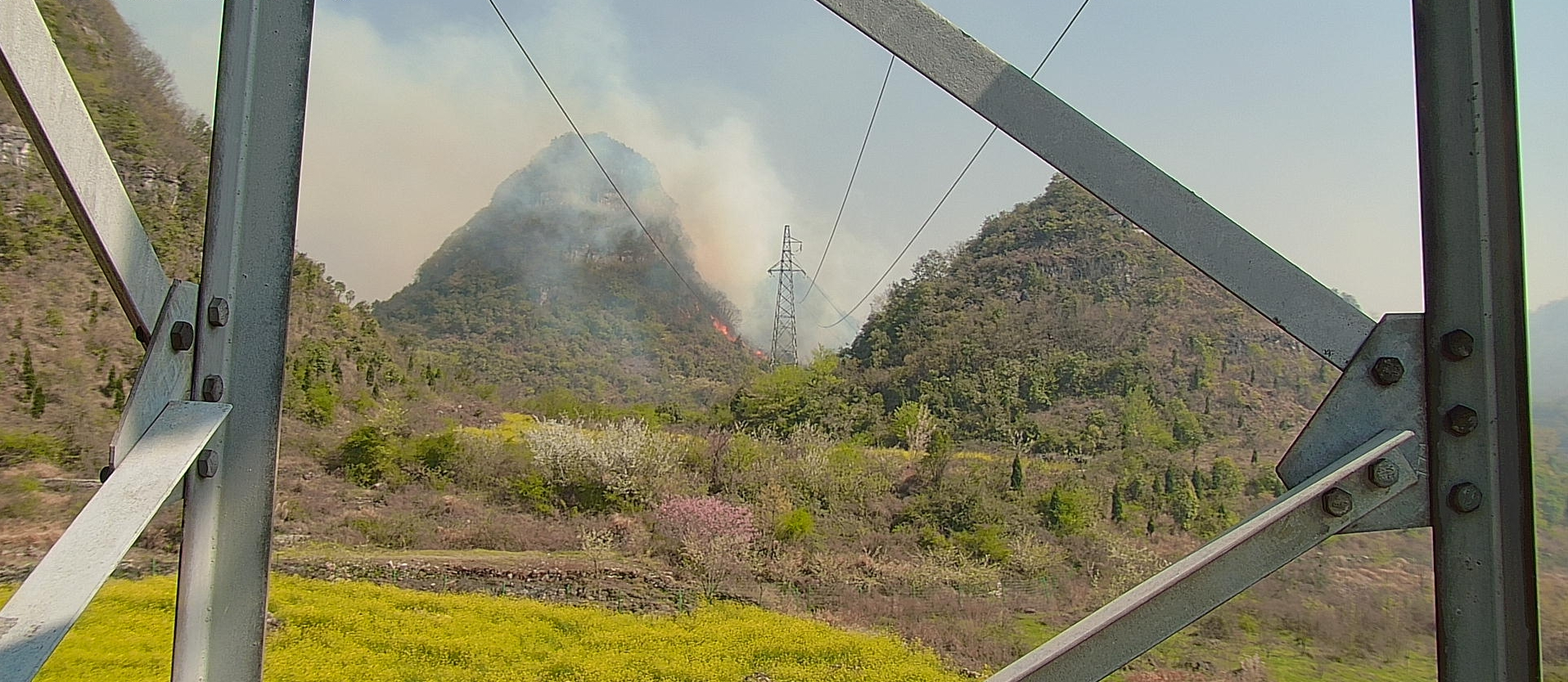山火: (710, 314, 737, 343), (755, 351, 768, 360)
烟雾: (106, 0, 895, 384)
